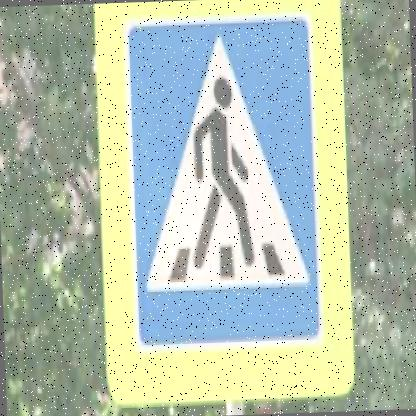crosswalk: (125, 11, 322, 346)
